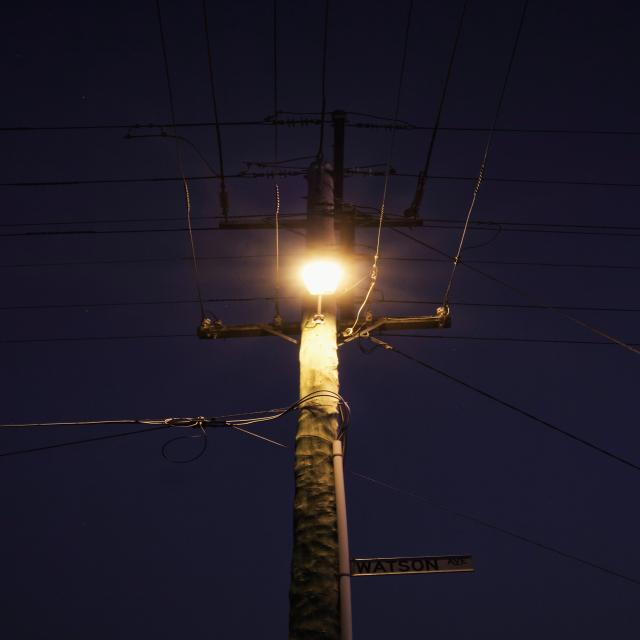Street Light: (291, 252, 352, 640)
